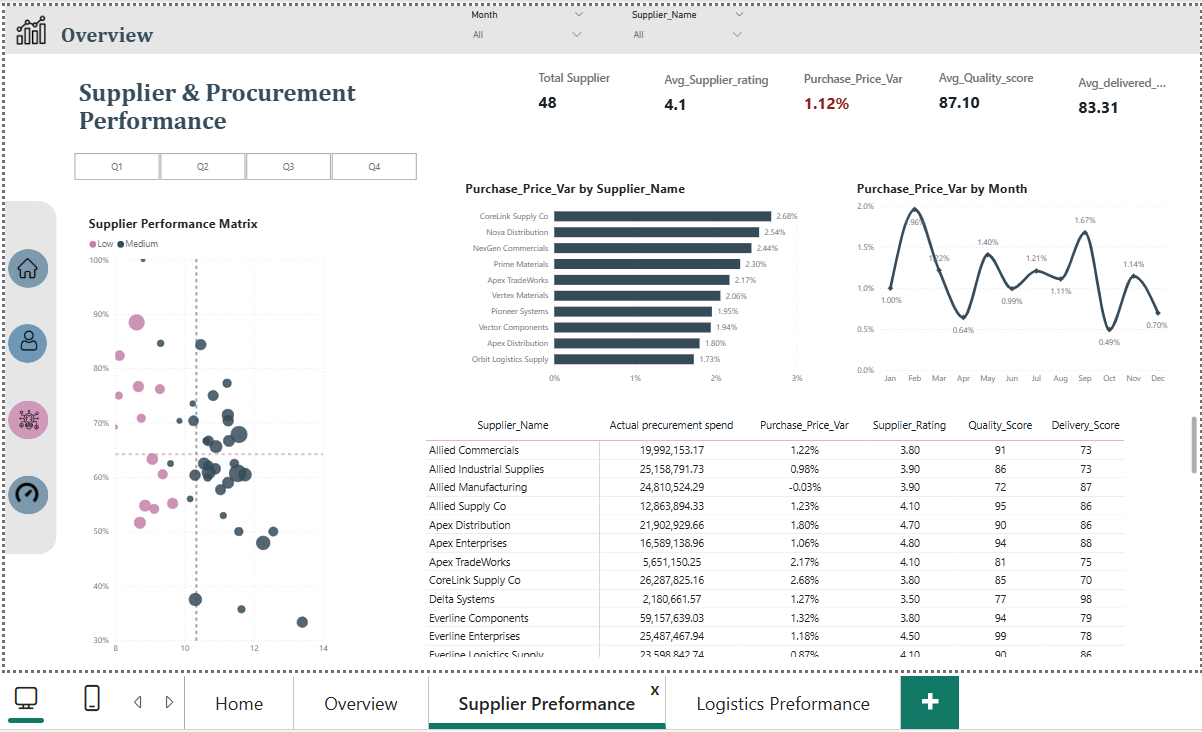

The page's visual inventory and layout, read from the dashboard file:
{"tool":"powerbi","page":{"name":"Supplier Preformance","canvas":[1800,1000],"ordinal":2},"visuals":[{"type":"shape","box":[0,0,1800.5,72.3],"z":0},{"type":"shape","box":[0,293,78,532],"z":1000},{"type":"textbox","box":[79.1,0,293.7,72.3],"z":2000},{"type":"image","box":[0,9,79.1,54.2],"z":3000},{"type":"textbox","box":[106.2,101.7,490.2,110.7],"z":4000},{"type":"shape","box":[4.5,366,61,58.7],"z":5000},{"type":"shape","box":[4.5,479.7,58.7,58.7],"z":6000},{"type":"shape","box":[4.5,593.4,61,58.7],"z":7000},{"type":"shape","box":[4.5,707.1,61,58.7],"z":8000},{"type":"image","box":[15.8,594.1,40,58],"z":9000},{"type":"cardVisual","fields":{"Data":["2nd Page Measures.Total Supplier"]},"box":[786.2,79.1,169.4,97.1],"z":10000},{"type":"cardVisual","fields":{"Data":["2nd Page Measures.Avg_Supplier_rating"]},"box":[975.9,81.3,192,97.1],"z":11000},{"type":"cardVisual","fields":{"Data":["2nd Page Measures.Purchase_Price_Var"]},"box":[1186,79.1,221.4,99.4],"z":12000},{"type":"cardVisual","fields":{"Data":["2nd Page Measures.Avg_Quality_score"]},"box":[1389.3,79.1,234.9,97.1],"z":13000},{"type":"cardVisual","fields":{"Data":["2nd Page Measures.Avg_delivered_score"]},"box":[1599.4,86.3,171.7,97.1],"z":14000},{"type":"image","box":[13.6,372.7,40.7,45.2],"z":15000},{"type":"image","box":[15.8,478.9,40.7,49.7],"z":16000},{"type":"image","box":[9,702.6,47.4,65.5],"z":17000},{"type":"slicer","fields":{"Values":["Dim_date.Month"]},"box":[689,0,194.3,72.3],"z":18000},{"type":"slicer","fields":{"Values":["dim_supplier.Supplier_Name"]},"box":[930.7,0,194.3,72.3],"z":19000},{"type":"slicer","fields":{"Values":["Dim_date.Quarter"]},"box":[79.1,214.6,564.8,54.2],"z":21000},{"type":"scatterChart","title":"Supplier Performance Matrix","fields":{"X":["1st Measure page.Avg Lead Time"],"Y":["1st Measure page.On Time Delivered %"],"Series":["dim_supplier.Risk_Level"],"Category":["dim_supplier.Supplier_Name"],"Size":["1st Measure page.Actual precurement spend"]},"box":[106.2,293.7,399.9,691.3],"z":22000},{"type":"clusteredBarChart","fields":{"Y":["2nd Page Measures.Purchase_Price_Var"],"Category":["dim_supplier.Supplier_Name"]},"box":[673.2,241.7,553.5,336.6],"z":23000},{"type":"lineChart","fields":{"Category":["Dim_date.Month"],"Y":["2nd Page Measures.Purchase_Price_Var"]},"box":[1262.8,241.7,508.3,336.6],"z":24000},{"type":"pivotTable","fields":{"Rows":["dim_supplier.Supplier_Name"],"Values":["1st Measure page.Actual precurement spend","2nd Page Measures.Purchase_Price_Var","Sum(dim_supplier.Supplier_Rating)","Sum(dim_supplier.Quality_Score)","Sum(dim_supplier.Delivery_Score)"]},"box":[628,612.2,1172.5,372.7],"z":25000}]}

Visuals, with their boxes on the page's 1800x1000 design canvas (x1, y1, x2, y2). These are canvas units, not pixel positions in the 1202x732 screenshot, which may show the page scaled, cropped or inside an application window:
shape: {"x1": 0, "y1": 0, "x2": 1800, "y2": 72}
shape: {"x1": 0, "y1": 293, "x2": 78, "y2": 825}
textbox: {"x1": 79, "y1": 0, "x2": 373, "y2": 72}
image: {"x1": 0, "y1": 9, "x2": 79, "y2": 63}
textbox: {"x1": 106, "y1": 102, "x2": 596, "y2": 212}
shape: {"x1": 4, "y1": 366, "x2": 66, "y2": 425}
shape: {"x1": 4, "y1": 480, "x2": 63, "y2": 538}
shape: {"x1": 4, "y1": 593, "x2": 66, "y2": 652}
shape: {"x1": 4, "y1": 707, "x2": 66, "y2": 766}
image: {"x1": 16, "y1": 594, "x2": 56, "y2": 652}
cardVisual - 2nd Page Measures.Total Supplier: {"x1": 786, "y1": 79, "x2": 956, "y2": 176}
cardVisual - 2nd Page Measures.Avg_Supplier_rating: {"x1": 976, "y1": 81, "x2": 1168, "y2": 178}
cardVisual - 2nd Page Measures.Purchase_Price_Var: {"x1": 1186, "y1": 79, "x2": 1407, "y2": 178}
cardVisual - 2nd Page Measures.Avg_Quality_score: {"x1": 1389, "y1": 79, "x2": 1624, "y2": 176}
cardVisual - 2nd Page Measures.Avg_delivered_score: {"x1": 1599, "y1": 86, "x2": 1771, "y2": 183}
image: {"x1": 14, "y1": 373, "x2": 54, "y2": 418}
image: {"x1": 16, "y1": 479, "x2": 56, "y2": 529}
image: {"x1": 9, "y1": 703, "x2": 56, "y2": 768}
slicer - Dim_date.Month: {"x1": 689, "y1": 0, "x2": 883, "y2": 72}
slicer - dim_supplier.Supplier_Name: {"x1": 931, "y1": 0, "x2": 1125, "y2": 72}
slicer - Dim_date.Quarter: {"x1": 79, "y1": 215, "x2": 644, "y2": 269}
"Supplier Performance Matrix" scatterChart: {"x1": 106, "y1": 294, "x2": 506, "y2": 985}
clusteredBarChart - 2nd Page Measures.Purchase_Price_Var x dim_supplier.Supplier_Name: {"x1": 673, "y1": 242, "x2": 1227, "y2": 578}
lineChart - Dim_date.Month x 2nd Page Measures.Purchase_Price_Var: {"x1": 1263, "y1": 242, "x2": 1771, "y2": 578}
pivotTable - dim_supplier.Supplier_Name x 1st Measure page.Actual precurement spend: {"x1": 628, "y1": 612, "x2": 1800, "y2": 985}
